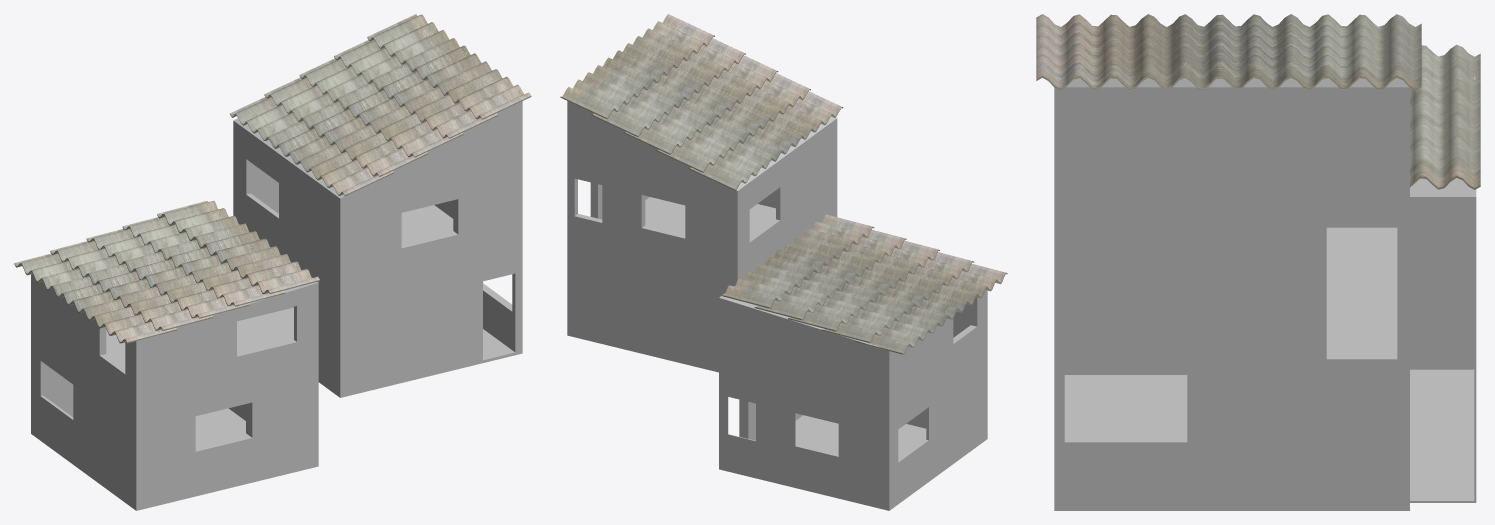
Rendered from tripplehouse.FBX.
3 renders of one model, left to right at view 1: azimuth 30°, elevation 25°; view 2: azimuth 150°, elevation 25°; view 3: azimuth 270°, elevation 25°, orthographic. The views are drawn at different scales.
Visible parts, largest first — view 1: Box002, Box007, Box012, Box004, Box003, Box005, Box006, Box008, Box009, Box010, Box011; view 2: Box002, Box007, Box012, Box004, Box003, Box005, Box006, Box009, Box008, Box010, Box011; view 3: Box002, Box007, Box005, Box004, Box003, Box006, Box012, Box010, Box011, Box009, Box008.
Part boxes in pixels (x1,y1,x2,y2): Box002: (31,101,522,510); Box007: (367,14,531,119); Box012: (157,200,319,293); Box004: (264,77,428,176); Box003: (229,97,393,196); Box005: (299,58,463,157); Box006: (334,39,498,138); Box008: (14,253,177,343); Box009: (50,241,212,330); Box010: (86,229,249,318); Box011: (122,217,285,306); Box002: (567,101,987,510); Box007: (560,14,714,119); Box012: (722,214,874,308); Box004: (656,73,810,172); Box003: (688,91,843,190); Box005: (623,55,778,154); Box006: (591,38,745,137); Box009: (822,252,974,343); Box008: (855,264,1007,354); Box010: (788,240,939,331); Box011: (754,229,906,320); Box002: (1054,75,1476,510); Box007: (1036,54,1421,90); Box005: (1036,34,1421,58); Box004: (1036,24,1421,47); Box003: (1036,14,1421,36); Box006: (1036,45,1421,66); Box012: (1410,136,1480,189); Box010: (1410,91,1480,127); Box011: (1410,115,1480,148); Box009: (1410,67,1480,103); Box008: (1421,44,1480,79).
Size of the model in its own units: 316 by 273 by 190.
